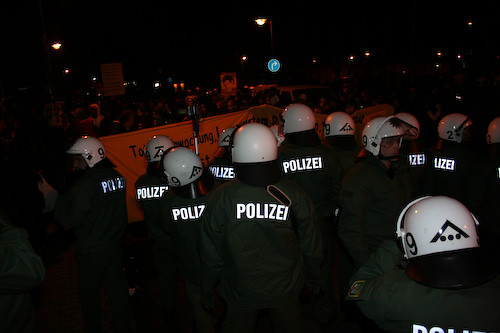policeman: (204, 124, 317, 333), (351, 183, 500, 333), (28, 132, 126, 333), (160, 145, 217, 333), (345, 120, 409, 270), (269, 106, 326, 222), (131, 135, 174, 241), (418, 113, 472, 186)
